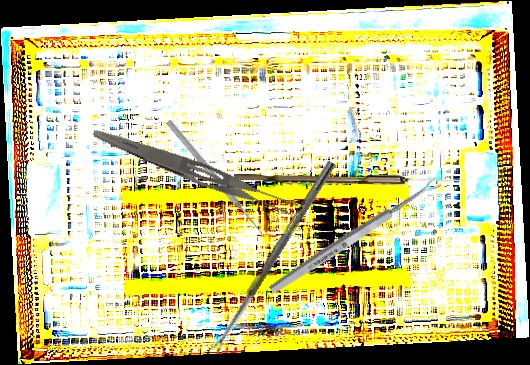Dressing Forceps: (88, 124, 301, 221)
Pusher: (164, 118, 266, 237)
Surgical Spoon: (209, 159, 336, 355), (267, 175, 443, 297), (234, 174, 465, 185)
